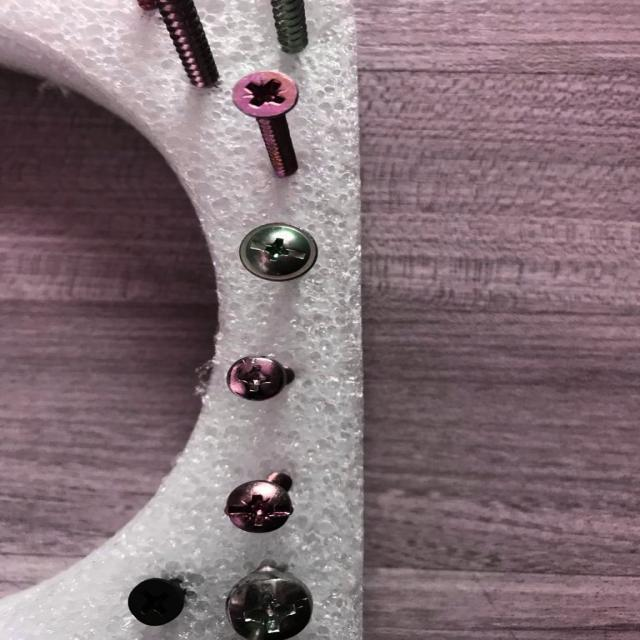PhillipsScrewHead: (227, 575, 313, 640), (240, 222, 318, 280), (225, 480, 293, 532), (232, 69, 298, 117), (225, 355, 286, 401), (127, 578, 184, 626)
